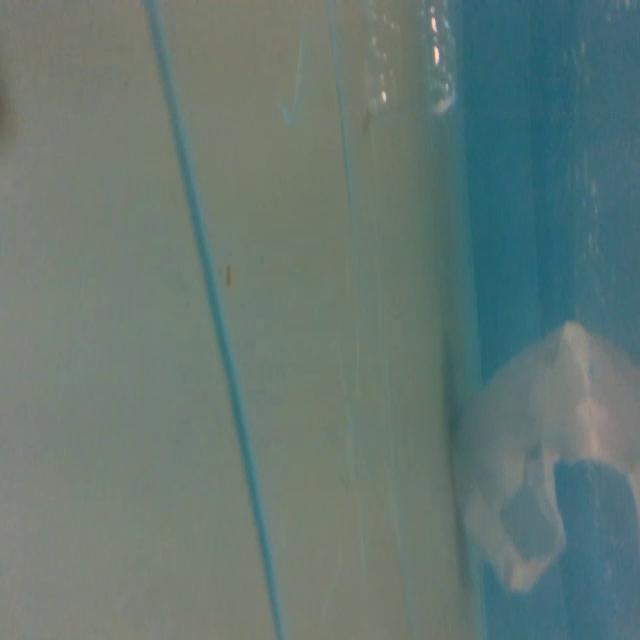plastic bags: (450, 310, 640, 596)
